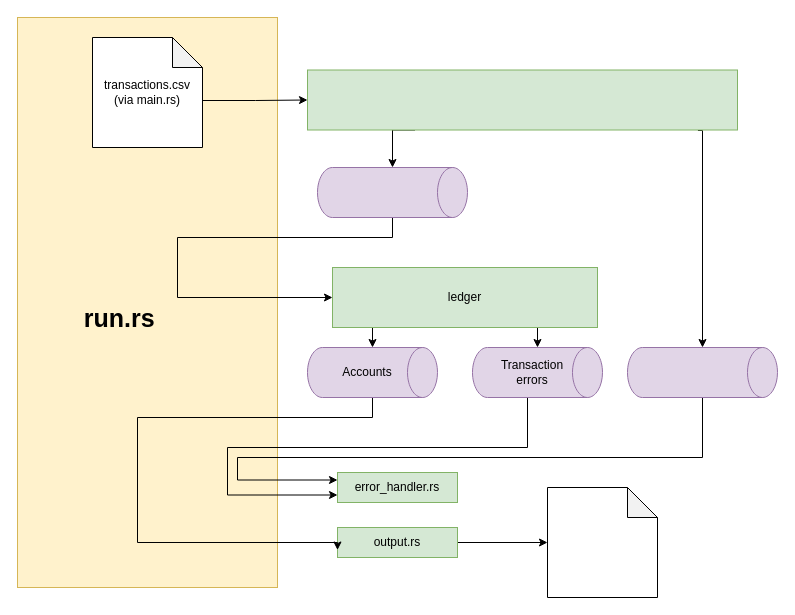
Some shapes in this 795 by 615 pixel diagram are drawn without their labels. Here are the shapes that lost their labels. From the top down, the box of each, then its label:
(306, 69, 738, 130): input.rs
(316, 166, 468, 218): Transactions
(626, 346, 778, 398): Input errors
(546, 486, 658, 598): output.csv (via stdout)
